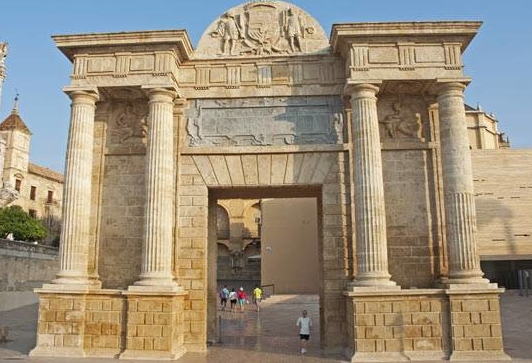vano-adintelado: (192, 170, 335, 350)
